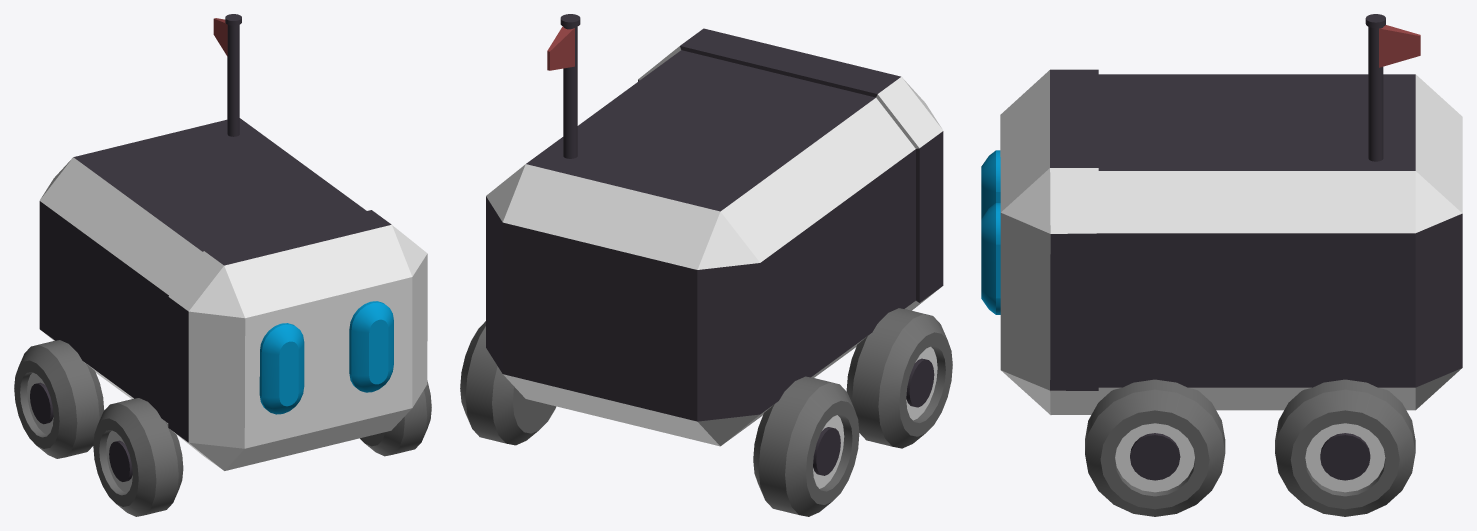
File: Rboto.fbx
3 renders of one model, left to right at view 1: azimuth 30°, elevation 25°; view 2: azimuth 150°, elevation 25°; view 3: azimuth 270°, elevation 25°, orthographic. The views are drawn at different scales.
Visible parts, largest first — view 1: Rboto2; view 2: Rboto2; view 3: Rboto2.
Boxes of the visible parts, x1,y1,x2,y2 form: Rboto2: [14, 14, 431, 516]; Rboto2: [460, 14, 952, 516]; Rboto2: [981, 14, 1462, 516].
Size of the model in its own units: 75.44 by 93.4 by 89.28.
